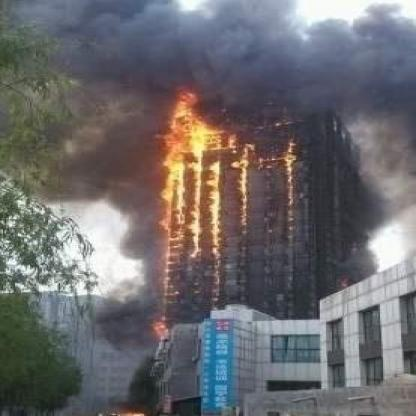fire: (141, 85, 307, 334)
smoke: (19, 4, 413, 199)
